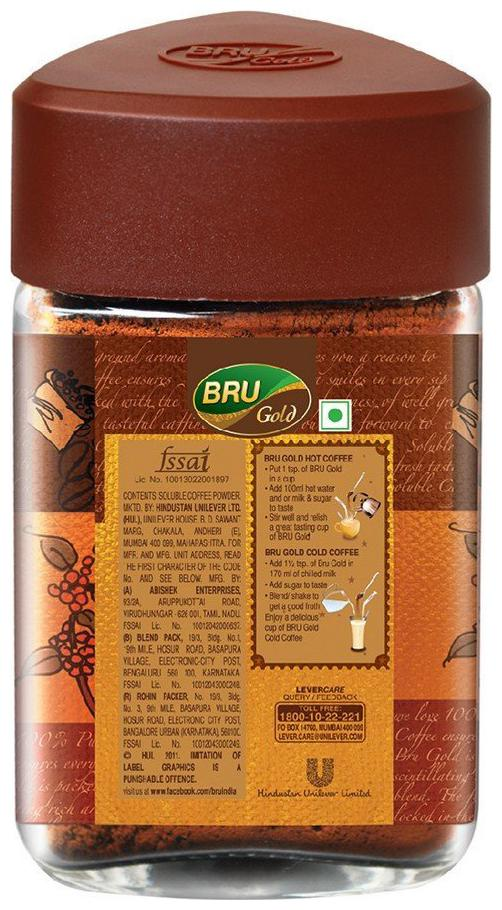fssai: (153, 445, 214, 473)
